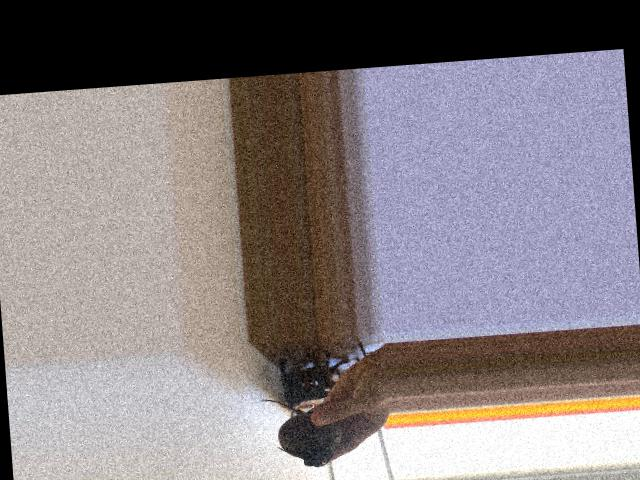beet: (258, 393, 343, 470)
